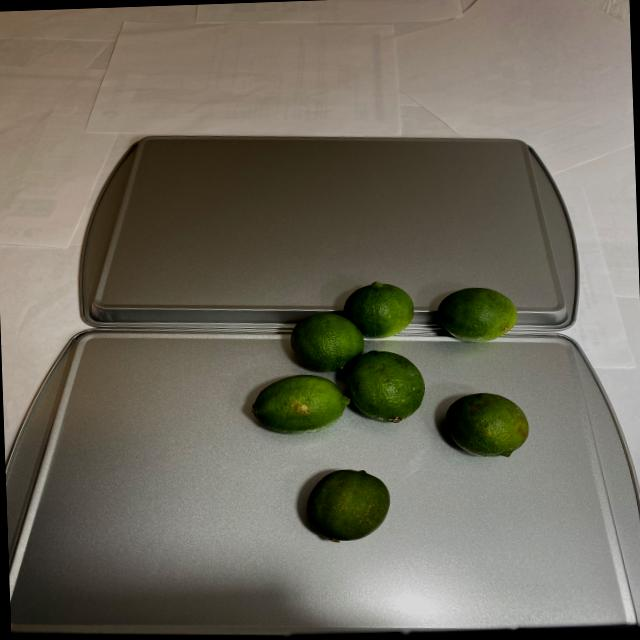lemon: (243, 274, 536, 552)
